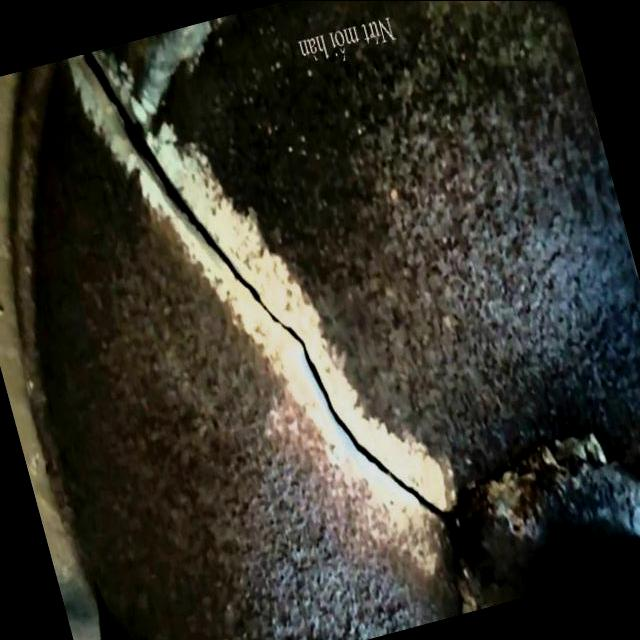defect: (81, 52, 460, 533)
